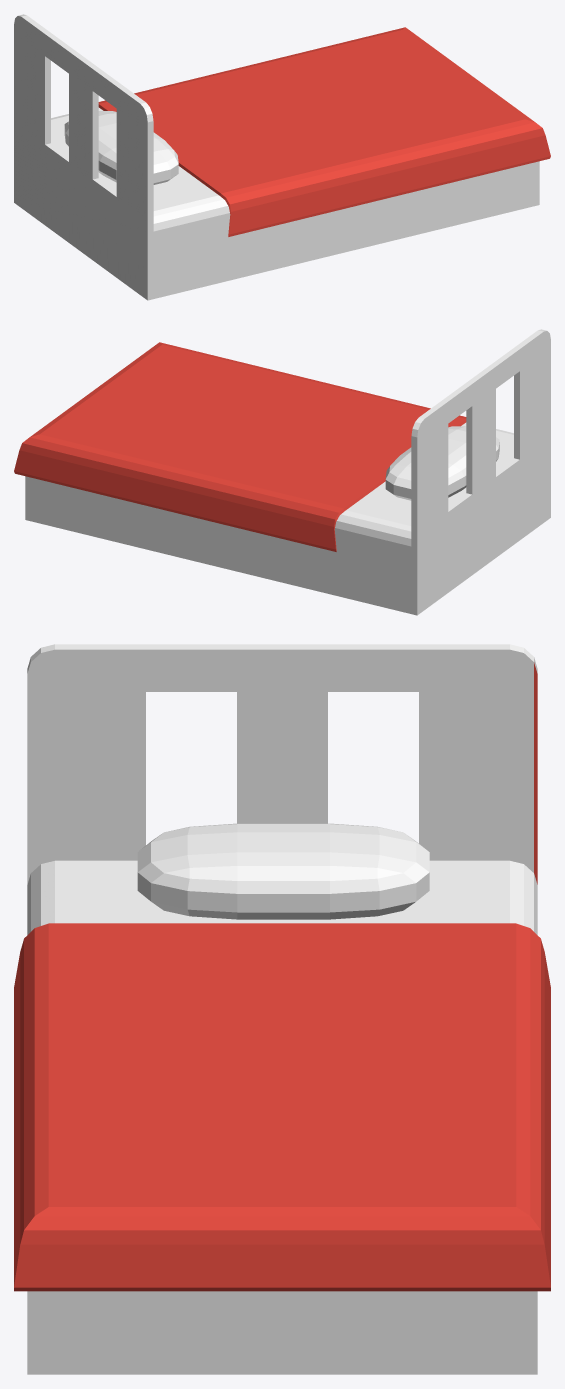
The model's file is Small_Bed.glb.
3 views of the same model, one above another, from view 1: azimuth 30°, elevation 25°; view 2: azimuth 150°, elevation 25°; view 3: azimuth 270°, elevation 25° (orthographic). The views are drawn at different scales.
Visible parts, largest first — view 1: Cube; view 2: Cube; view 3: Cube.
Boxes of the visible parts, bbox=[...] form: Cube: bbox=[14, 14, 550, 300]; Cube: bbox=[14, 329, 550, 615]; Cube: bbox=[14, 644, 550, 1374].
Size of the model in its own units: 10.36 by 4.74 by 6.31.
